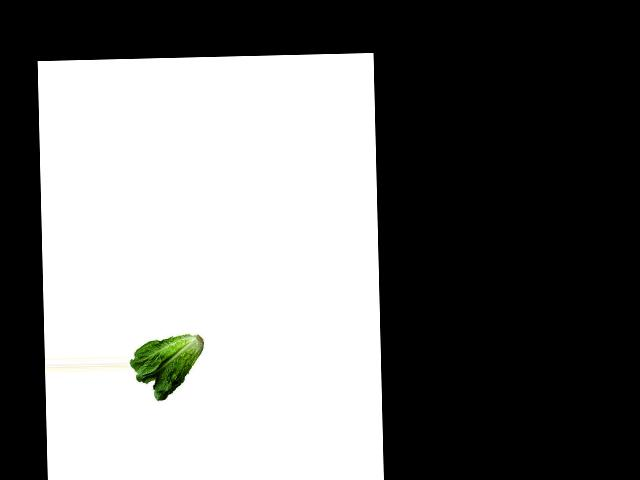lettuce: (128, 331, 204, 403)
